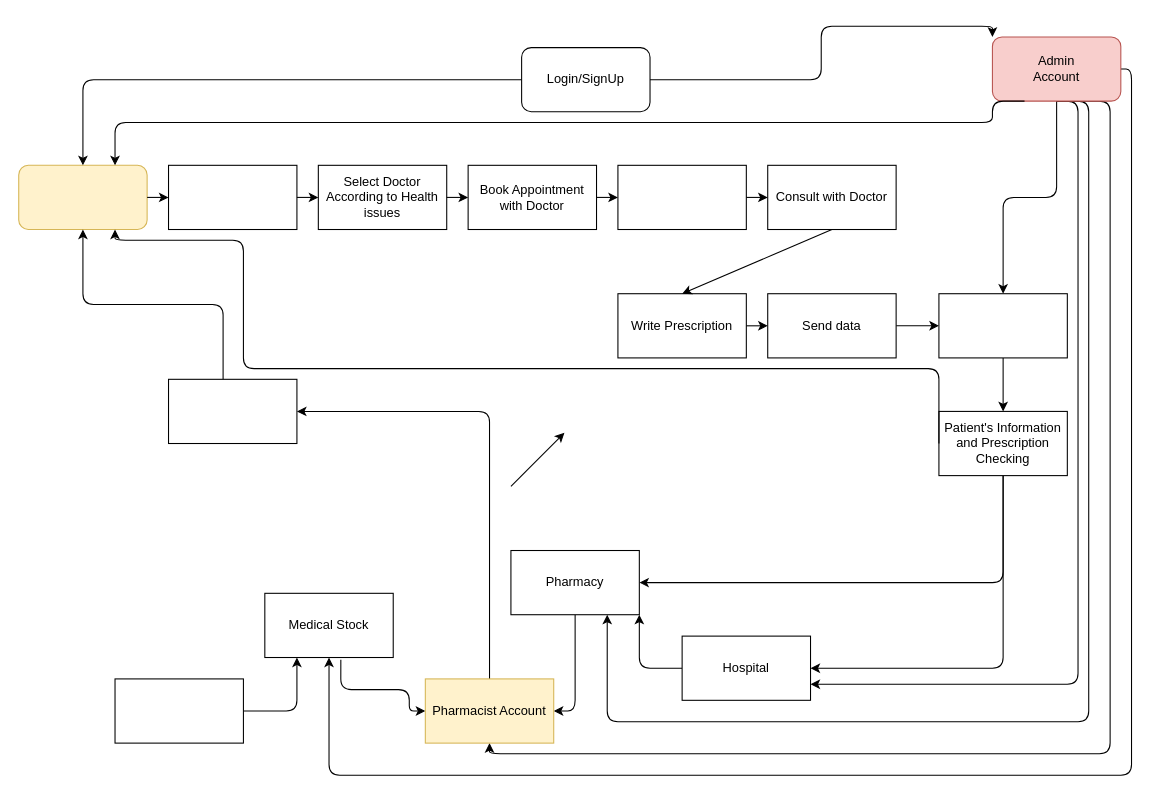
Some shapes in this 1159 by 803 pixel diagram are drawn without their labels. The shapes that lost their labels are listed below. From the top down, each one's centre as x and y in pixels, then its label:
the point at 82,197: Patient's Account
the point at 232,197: Select Related Health Issues
the point at 681,197: Choose Date
the point at 1002,325: Server
the point at 232,411: Send Medicine
the point at 178,710: Check Medical Availablity
